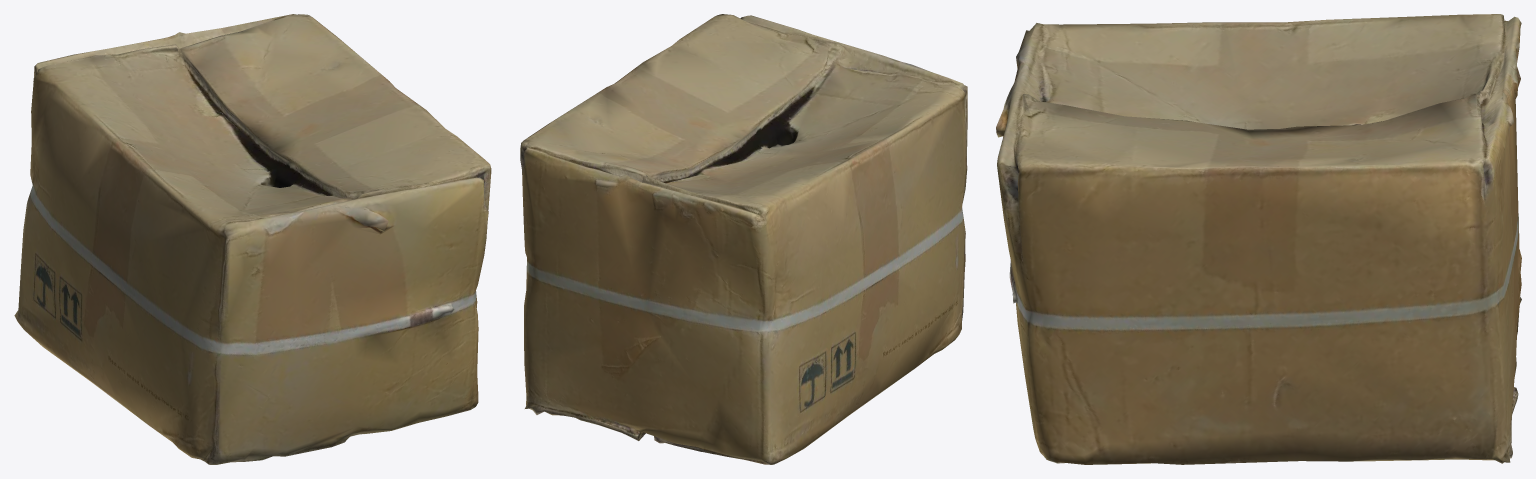
The model's file is cardboard_box.glb.
3 renders of one model, left to right at view 1: azimuth 30°, elevation 25°; view 2: azimuth 150°, elevation 25°; view 3: azimuth 270°, elevation 25°, orthographic. The views are drawn at different scales.
Visible parts, largest first — view 1: cardboard_box_01; view 2: cardboard_box_01; view 3: cardboard_box_01.
Boxes of the visible parts, <box> form: cardboard_box_01: <box>14,14,491,464</box>; cardboard_box_01: <box>520,14,967,464</box>; cardboard_box_01: <box>996,14,1521,464</box>.
Size of the model in its own units: 0.3867 by 0.3418 by 0.5159.
1 material, 1 textured.
